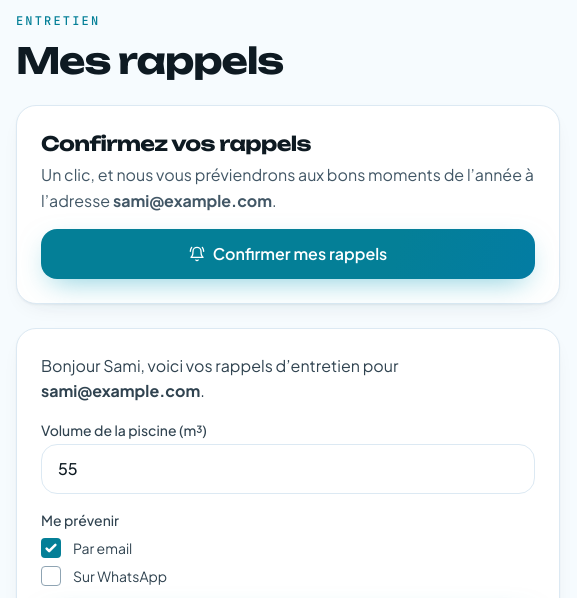
it: my reminders page › confirms the reminders with a click, from the first email
Check: the heading "Confirmez vos rappels" is shown, box [41,131,311,156]
Click the button "Confirmer mes rappels".
click(288, 254)  # box [41,229,535,279]
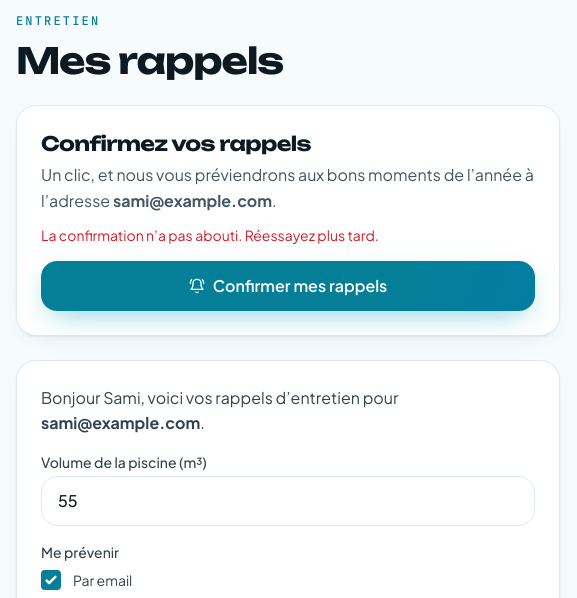
Check: the message shows "La confirmation n’a pas abouti", box [41,226,379,244]
Click the button "Confirmer mes rappels".
click(288, 286)  # box [41,261,535,311]
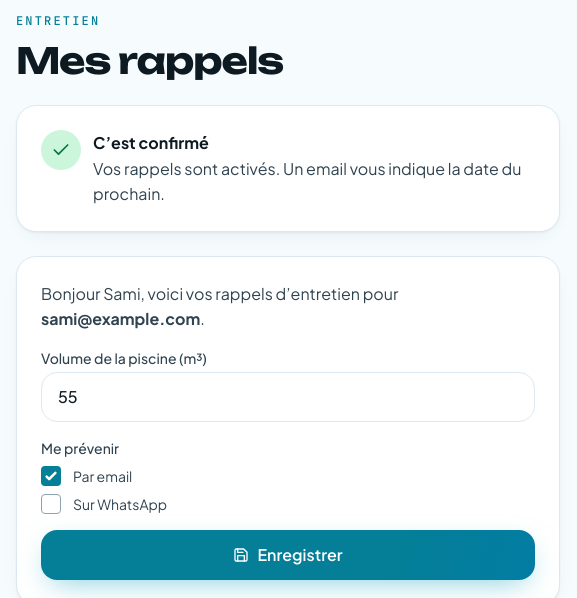
Check: the message shows "Vos rappels sont activés", box [93,158,521,204]
Check: the button "Confirmer mes rappels" is gone
